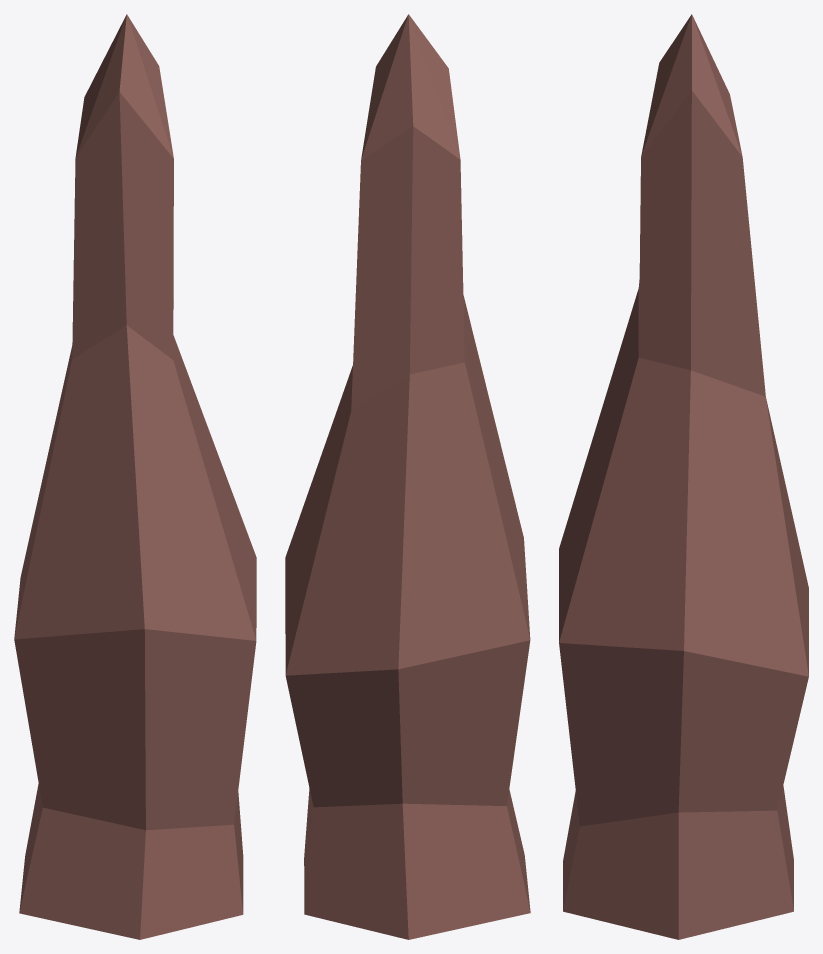
The model's file is Stalagmite-C04.fbx.
The picture shows the model from 3 angles, left to right: view 1: azimuth 30°, elevation 25°; view 2: azimuth 150°, elevation 25°; view 3: azimuth 270°, elevation 25°; orthographic projection.
Visible parts, largest first — view 1: Stalagmite-C04; view 2: Stalagmite-C04; view 3: Stalagmite-C04.
Boxes of the visible parts, bbox=[...] form: Stalagmite-C04: bbox=[14, 14, 256, 939]; Stalagmite-C04: bbox=[285, 14, 530, 939]; Stalagmite-C04: bbox=[559, 14, 808, 939].
Bounding box in the file's own units: 66.76 × 228 × 59.23.
